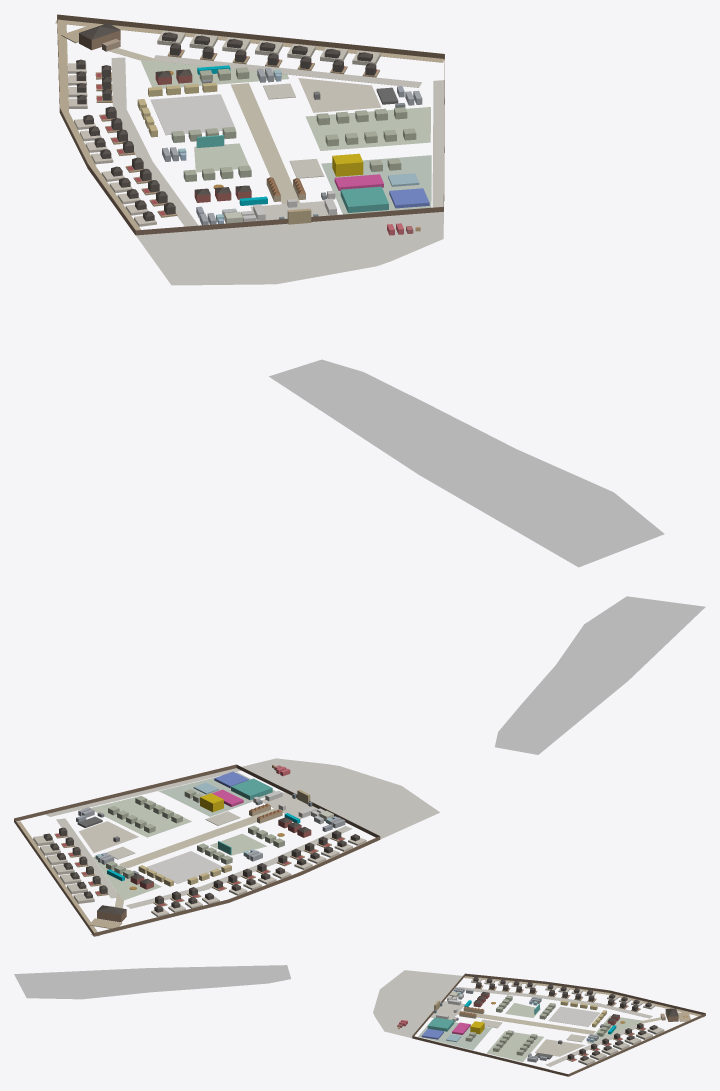
The model's file is AquaCamp_NorthernIsland_2027_Massing.glb.
The picture shows the model from 3 angles, top to bottom: view 1: azimuth 30°, elevation 25°; view 2: azimuth 150°, elevation 25°; view 3: azimuth 270°, elevation 25°; orthographic projection. The views are drawn at different scales.
Visible parts, largest first — view 1: 0300_parking_VISITOR_PARKING, 0291_forecourt_ENTRANCE_FORECOURT, 0224_lawn_PICNIC_LAWN, 0206_shade_, 0009_spine_BOULEVARD_8_m, 0314_obj, 0215_funzone_GAMES_ZONE_~2,380_m2, 0250_audience_AUDIENCE_~1,000_m2, 0007_lane_, 0312_obj, 0008_lane_, 0253_lawn_ (+4 smaller); view 2: 0300_parking_VISITOR_PARKING, 0291_forecourt_ENTRANCE_FORECOURT, 0224_lawn_PICNIC_LAWN, 0206_shade_, 0009_spine_BOULEVARD_8_m, 0215_funzone_GAMES_ZONE_~2,380_m2, 0250_audience_AUDIENCE_~1,000_m2, 0313_obj, 0008_lane_, 0007_lane_, 0253_lawn_, 0247_lawn_CINEMA_LAWN (+4 smaller); view 3: 0300_parking_VISITOR_PARKING, 0291_forecourt_ENTRANCE_FORECOURT, 0224_lawn_PICNIC_LAWN, 0206_shade_, 0215_funzone_GAMES_ZONE_~2,380_m2, 0009_spine_BOULEVARD_8_m, 0250_audience_AUDIENCE_~1,000_m2, 0313_obj, 0314_obj, 0253_lawn_, 0247_lawn_CINEMA_LAWN, 0007_lane_ (+8 smaller).
Part boxes in pixels (x1,y1,x2,y2): 0300_parking_VISITOR_PARKING: [269, 359, 664, 567]; 0291_forecourt_ENTRANCE_FORECOURT: [136, 211, 443, 285]; 0224_lawn_PICNIC_LAWN: [305, 107, 430, 150]; 0206_shade_: [150, 94, 235, 134]; 0009_spine_BOULEVARD_8_m: [231, 83, 300, 204]; 0314_obj: [57, 14, 444, 58]; 0215_funzone_GAMES_ZONE_~2,380_m2: [321, 155, 431, 214]; 0250_audience_AUDIENCE_~1,000_m2: [298, 78, 381, 112]; 0007_lane_: [153, 55, 421, 87]; 0312_obj: [135, 206, 443, 235]; 0008_lane_: [432, 80, 444, 207]; 0253_lawn_: [140, 59, 288, 88]; 0300_parking_VISITOR_PARKING: [495, 596, 705, 754]; 0291_forecourt_ENTRANCE_FORECOURT: [241, 758, 439, 839]; 0224_lawn_PICNIC_LAWN: [90, 796, 191, 837]; 0206_shade_: [146, 851, 222, 883]; 0009_spine_BOULEVARD_8_m: [119, 808, 277, 868]; 0215_funzone_GAMES_ZONE_~2,380_m2: [159, 772, 275, 816]; 0250_audience_AUDIENCE_~1,000_m2: [79, 821, 138, 852]; 0313_obj: [14, 764, 236, 821]; 0008_lane_: [45, 768, 240, 816]; 0007_lane_: [56, 818, 118, 898]; 0253_lawn_: [93, 856, 161, 900]; 0247_lawn_CINEMA_LAWN: [210, 833, 266, 855]; 0300_parking_VISITOR_PARKING: [14, 965, 290, 999]; 0291_forecourt_ENTRANCE_FORECOURT: [373, 970, 462, 1038]; 0224_lawn_PICNIC_LAWN: [486, 1031, 543, 1061]; 0206_shade_: [548, 1006, 599, 1026]; 0215_funzone_GAMES_ZONE_~2,380_m2: [418, 1019, 491, 1049]; 0009_spine_BOULEVARD_8_m: [457, 1010, 595, 1034]; 0250_audience_AUDIENCE_~1,000_m2: [535, 1039, 585, 1056]; 0313_obj: [412, 1036, 568, 1076]; 0314_obj: [568, 1013, 705, 1076]; 0253_lawn_: [587, 1015, 643, 1043]; 0247_lawn_CINEMA_LAWN: [505, 1003, 540, 1017]; 0007_lane_: [545, 1024, 644, 1066].
Bounding box in the file's own units: 229 × 7.4 × 599.
